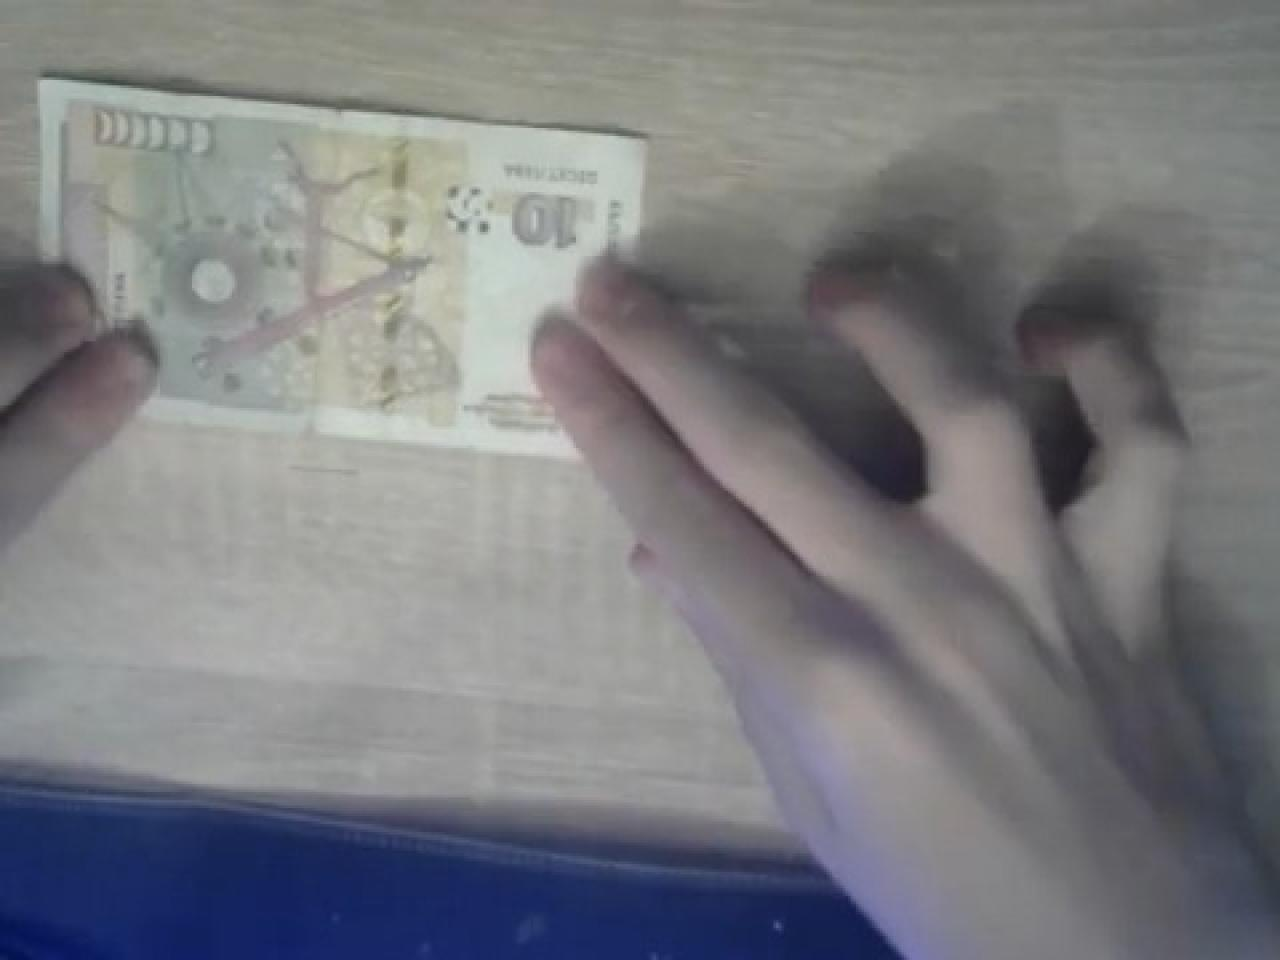10leva: (34, 72, 651, 459)
